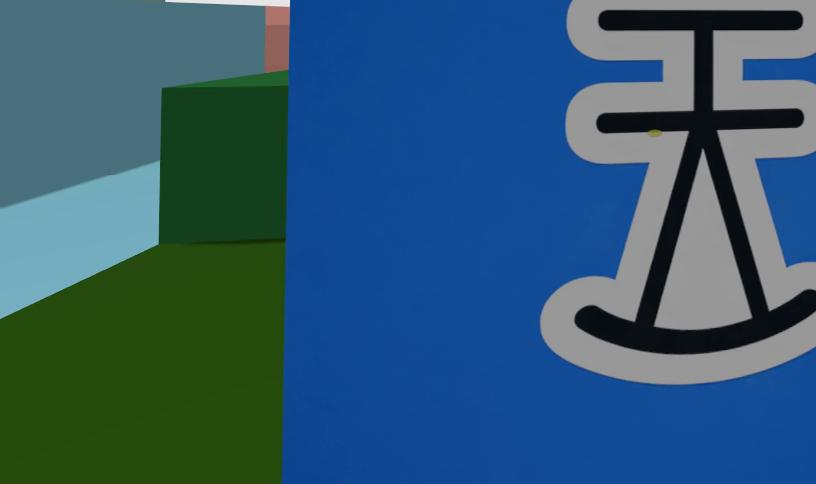KFS_REAL: (281, 0, 816, 483), (540, 0, 816, 384)
